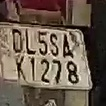1: (26, 57, 37, 82)
2: (37, 60, 52, 86)
5: (37, 30, 49, 55)
7: (51, 60, 66, 86)
8: (64, 61, 80, 87)
A: (59, 35, 76, 60)
D: (8, 28, 24, 55)
K: (12, 55, 28, 81)
L: (22, 31, 38, 56)
S: (47, 33, 60, 58)
